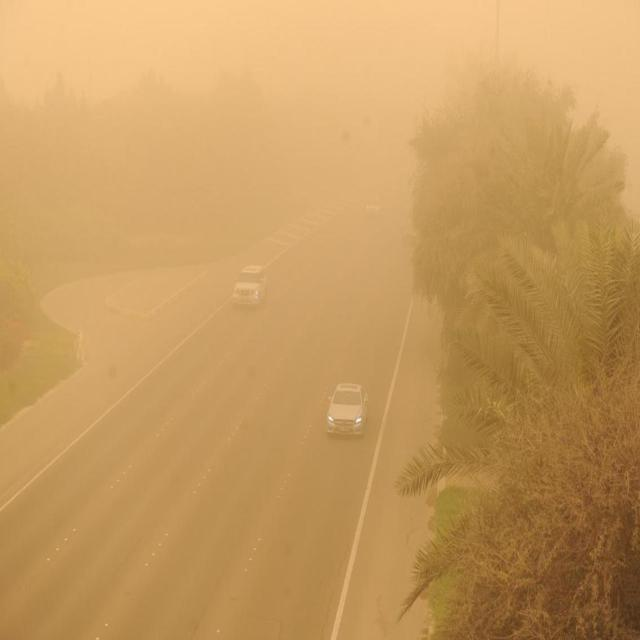car: (325, 382, 367, 436), (232, 264, 266, 306), (366, 197, 382, 216)
